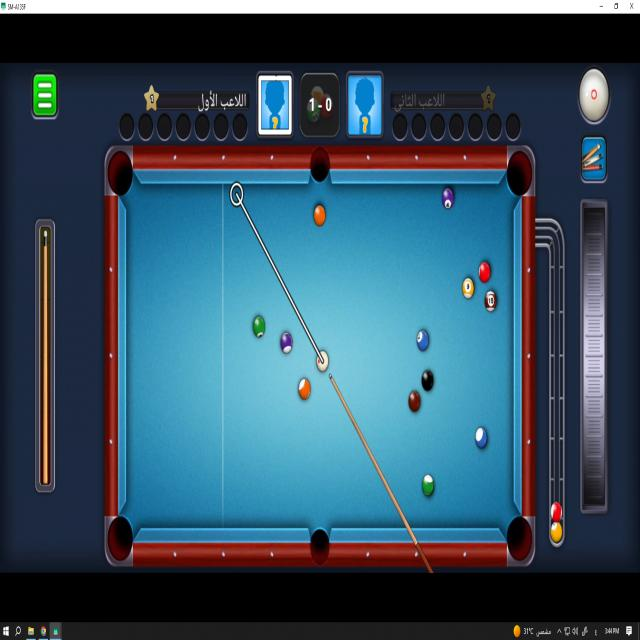object_ball: (417, 329, 429, 352), (479, 262, 490, 284), (422, 475, 434, 495), (485, 291, 496, 312), (254, 316, 265, 337), (422, 370, 433, 391), (442, 188, 453, 209), (299, 379, 310, 399), (314, 206, 325, 226), (281, 333, 292, 353), (409, 391, 420, 411), (476, 428, 487, 448), (463, 278, 473, 299)
white_cue_ball: (317, 351, 328, 372)
